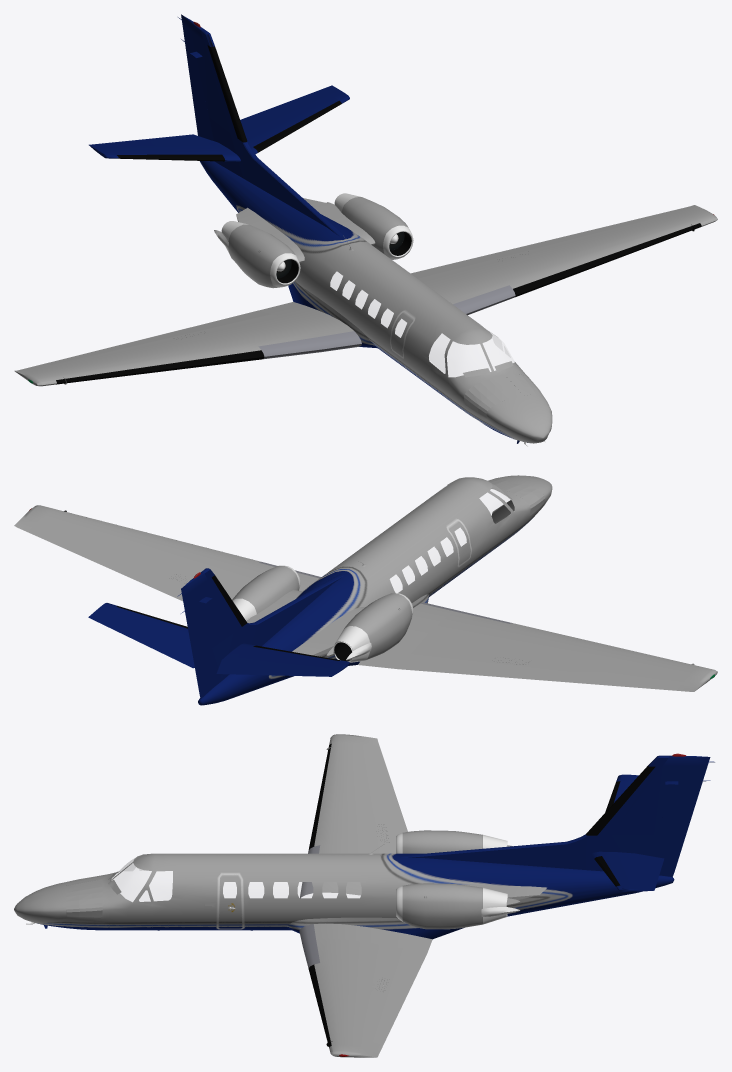
3 renders of one model, top to bottom at view 1: azimuth 30°, elevation 25°; view 2: azimuth 150°, elevation 25°; view 3: azimuth 270°, elevation 25°, orthographic. The views are drawn at different scales.
Visible parts, largest first — view 1: Fuselage, Fin, LHwing.002, RHwing.002, LHwing.003, RHwing.003, Hstab, REngine, Glass, LEngine, Pylons, Rudder (+13 smaller); view 2: Fuselage, RHwing.002, LHwing.003, RHwing.003, Fin, LHwing.002, Hstab, REngine, Rudder, RHflap, RHwing.001, LEngine (+10 smaller); view 3: Fuselage, Fin, RHwing.003, LHwing.002, LEngine, LHwing.003, Rudder, RHwing.002, LHwing.001, REngine, Glass, Cabin.door (+9 smaller).
Part boxes in pixels (x1=…): Fuselage: x1=200, y1=161, x2=552, y2=443; Fin: x1=190, y1=28, x2=343, y2=236; LHwing.002: x1=418, y1=246, x2=577, y2=303; RHwing.002: x1=155, y1=314, x2=317, y2=360; LHwing.003: x1=544, y1=205, x2=717, y2=265; RHwing.003: x1=14, y1=341, x2=188, y2=386; Hstab: x1=106, y1=94, x2=338, y2=161; REngine: x1=228, y1=224, x2=295, y2=288; Glass: x1=429, y1=333, x2=513, y2=376; LEngine: x1=341, y1=197, x2=408, y2=253; Pylons: x1=236, y1=198, x2=375, y2=262; Rudder: x1=178, y1=14, x2=218, y2=162; Fuselage: x1=198, y1=475, x2=552, y2=705; RHwing.002: x1=410, y1=611, x2=577, y2=669; LHwing.003: x1=14, y1=505, x2=188, y2=574; RHwing.003: x1=544, y1=638, x2=717, y2=691; Fin: x1=193, y1=568, x2=343, y2=698; LHwing.002: x1=155, y1=543, x2=317, y2=599; Hstab: x1=106, y1=606, x2=338, y2=669; REngine: x1=344, y1=593, x2=412, y2=659; Rudder: x1=177, y1=572, x2=221, y2=694; RHflap: x1=398, y1=654, x2=543, y2=679; RHwing.001: x1=358, y1=603, x2=454, y2=668; LEngine: x1=232, y1=566, x2=299, y2=613; Fuselage: x1=14, y1=844, x2=674, y2=939; Fin: x1=400, y1=755, x2=688, y2=876; RHwing.003: x1=320, y1=734, x2=386, y2=815; LHwing.002: x1=314, y1=938, x2=402, y2=998; LEngine: x1=402, y1=883, x2=482, y2=929; LHwing.003: x1=320, y1=991, x2=386, y2=1057; Rudder: x1=644, y1=753, x2=714, y2=872; RHwing.002: x1=314, y1=809, x2=395, y2=853; LHwing.001: x1=314, y1=923, x2=432, y2=953; REngine: x1=402, y1=830, x2=482, y2=853; Glass: x1=113, y1=859, x2=172, y2=901; Cabin.door: x1=205, y1=872, x2=244, y2=929.
Size of the model in its own units: 15.62 by 4.06 by 14.48.
7 materials, 5 textured.
